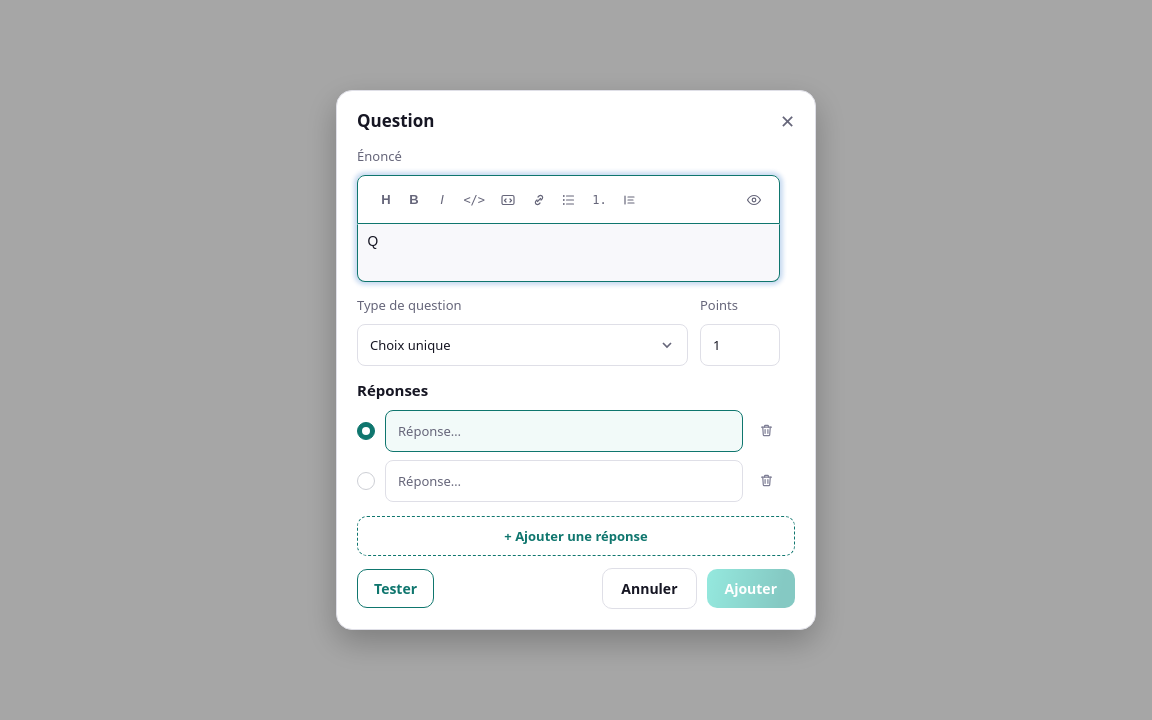
Scenario: QuestionFormBody › single_choice invalide tant qu'une option est vide
This screenshot has width=1152, height=720.
Expected: the button "Ajouter" is disabled, [706,569,795,608]
Type "A" into the 1st field with placeholder "Réponse…".
click(564, 430); type("A")  # box [385,410,743,452]
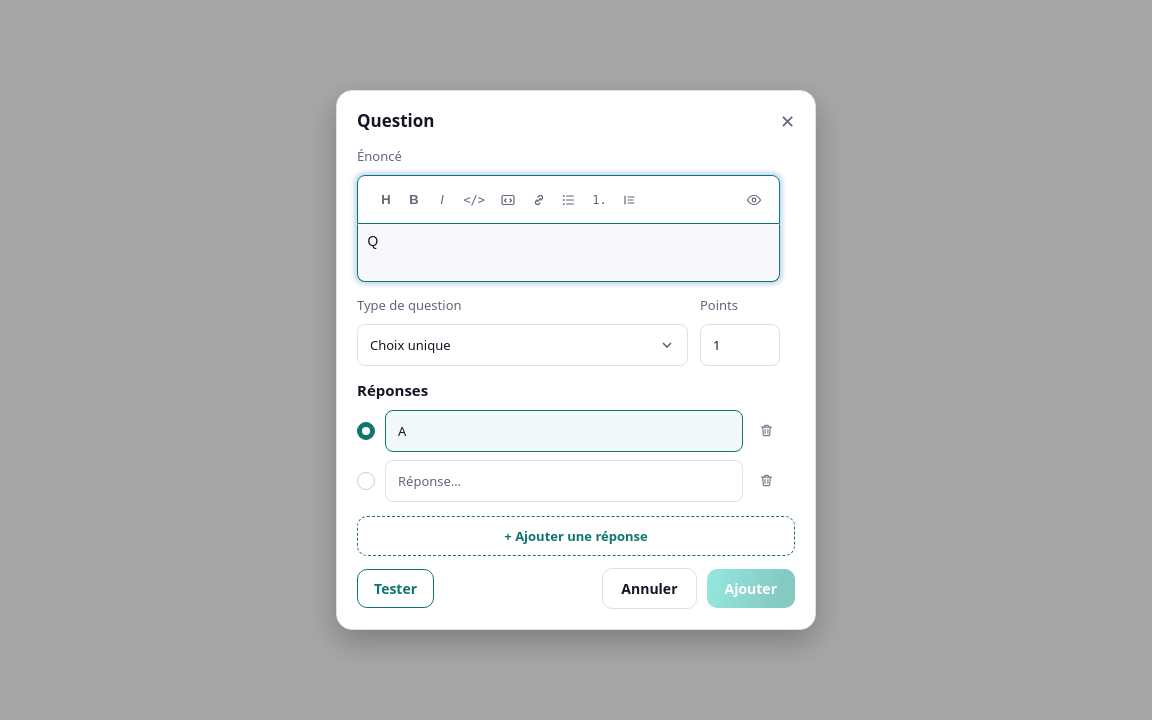
Type "B" into the field named "Réponse 2".
click(564, 480); type("B")  # box [385,460,743,502]
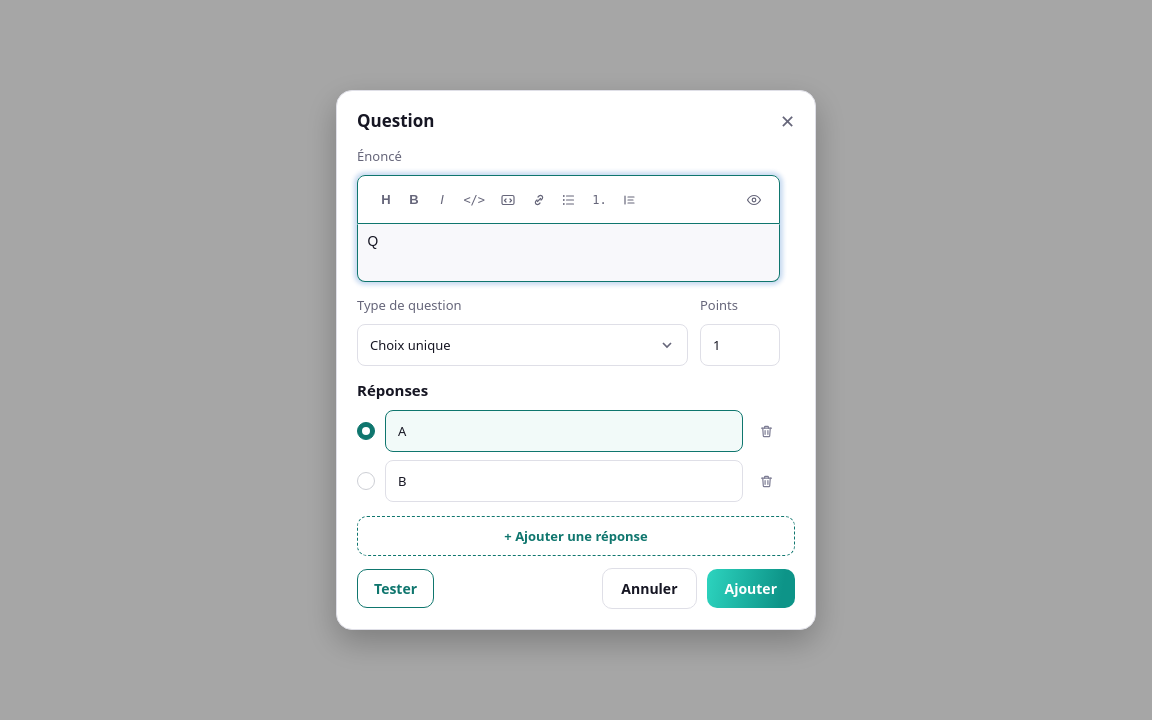
Result: the button "Ajouter" is enabled at [706,569,795,608]
